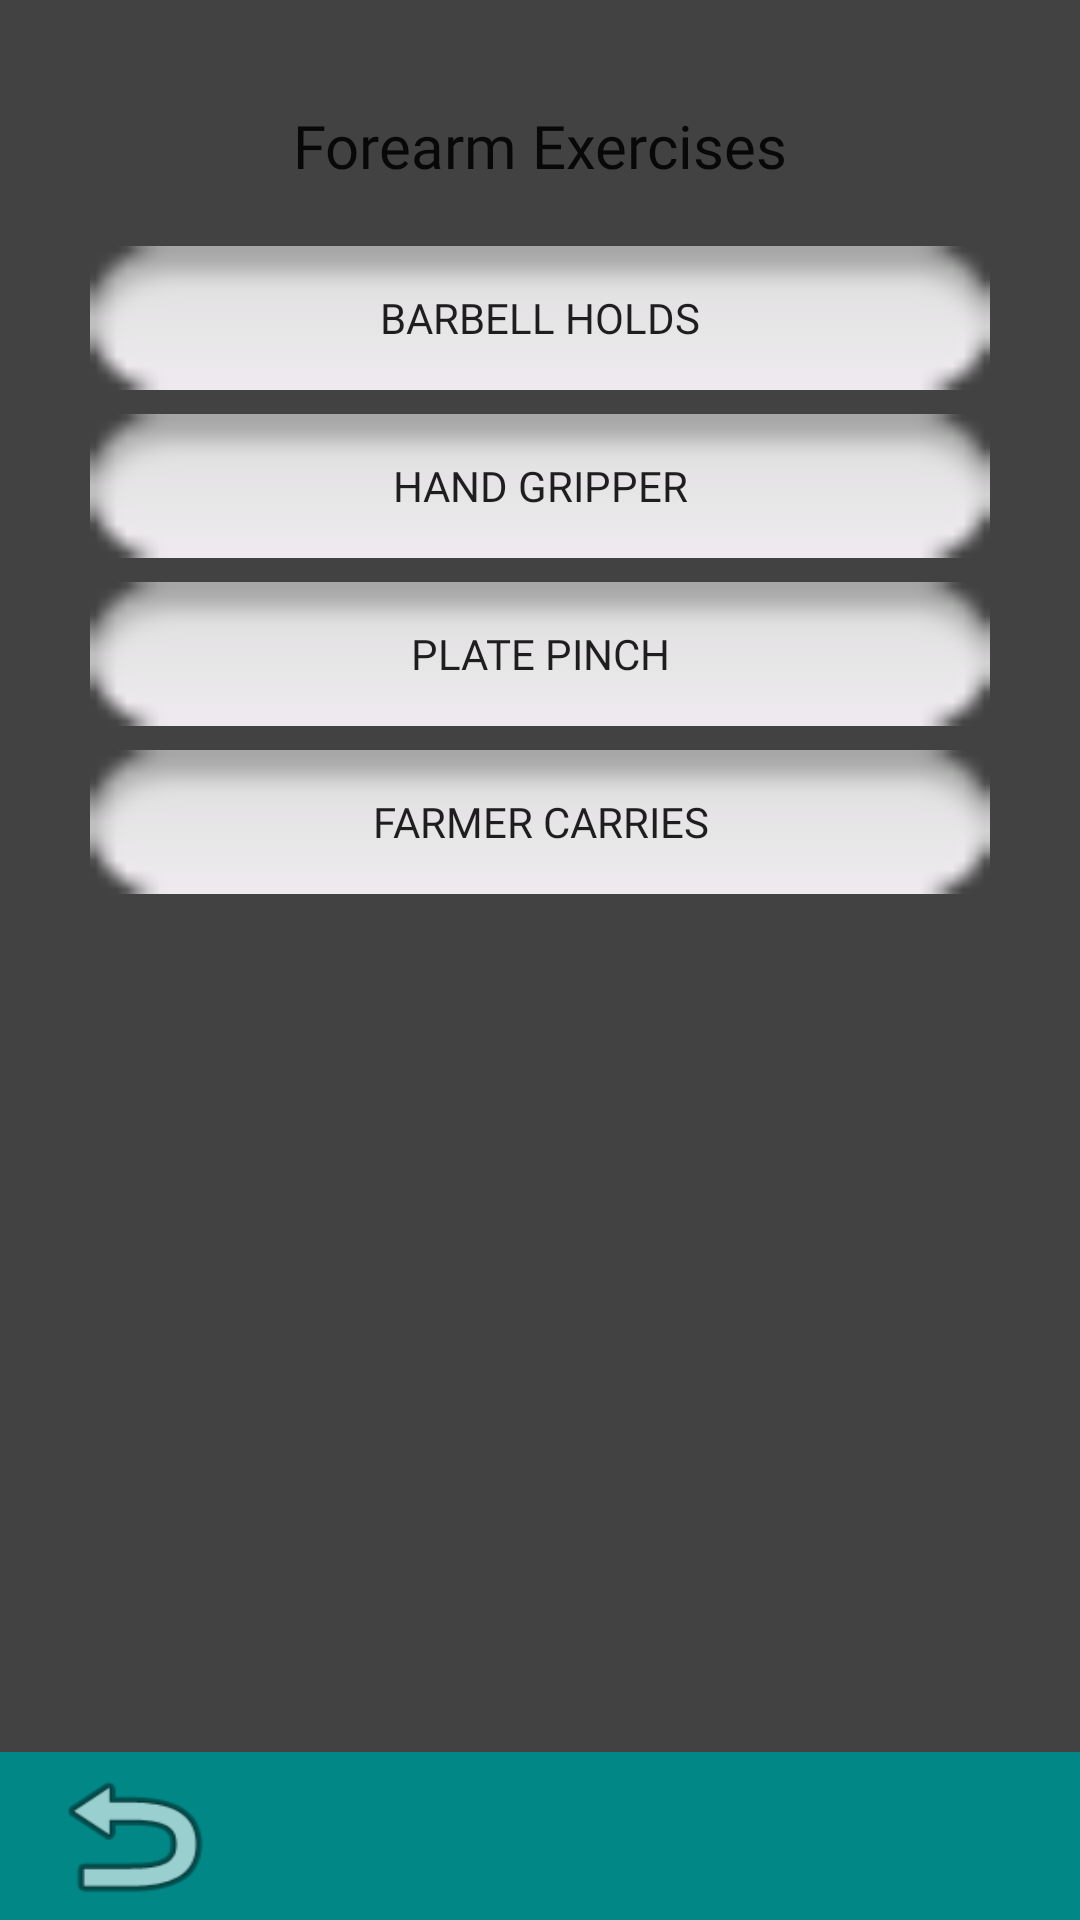

Where to tap for icons on this 1080w x 1920h app screen, as point (x, y):
revert: point (135, 1837)
